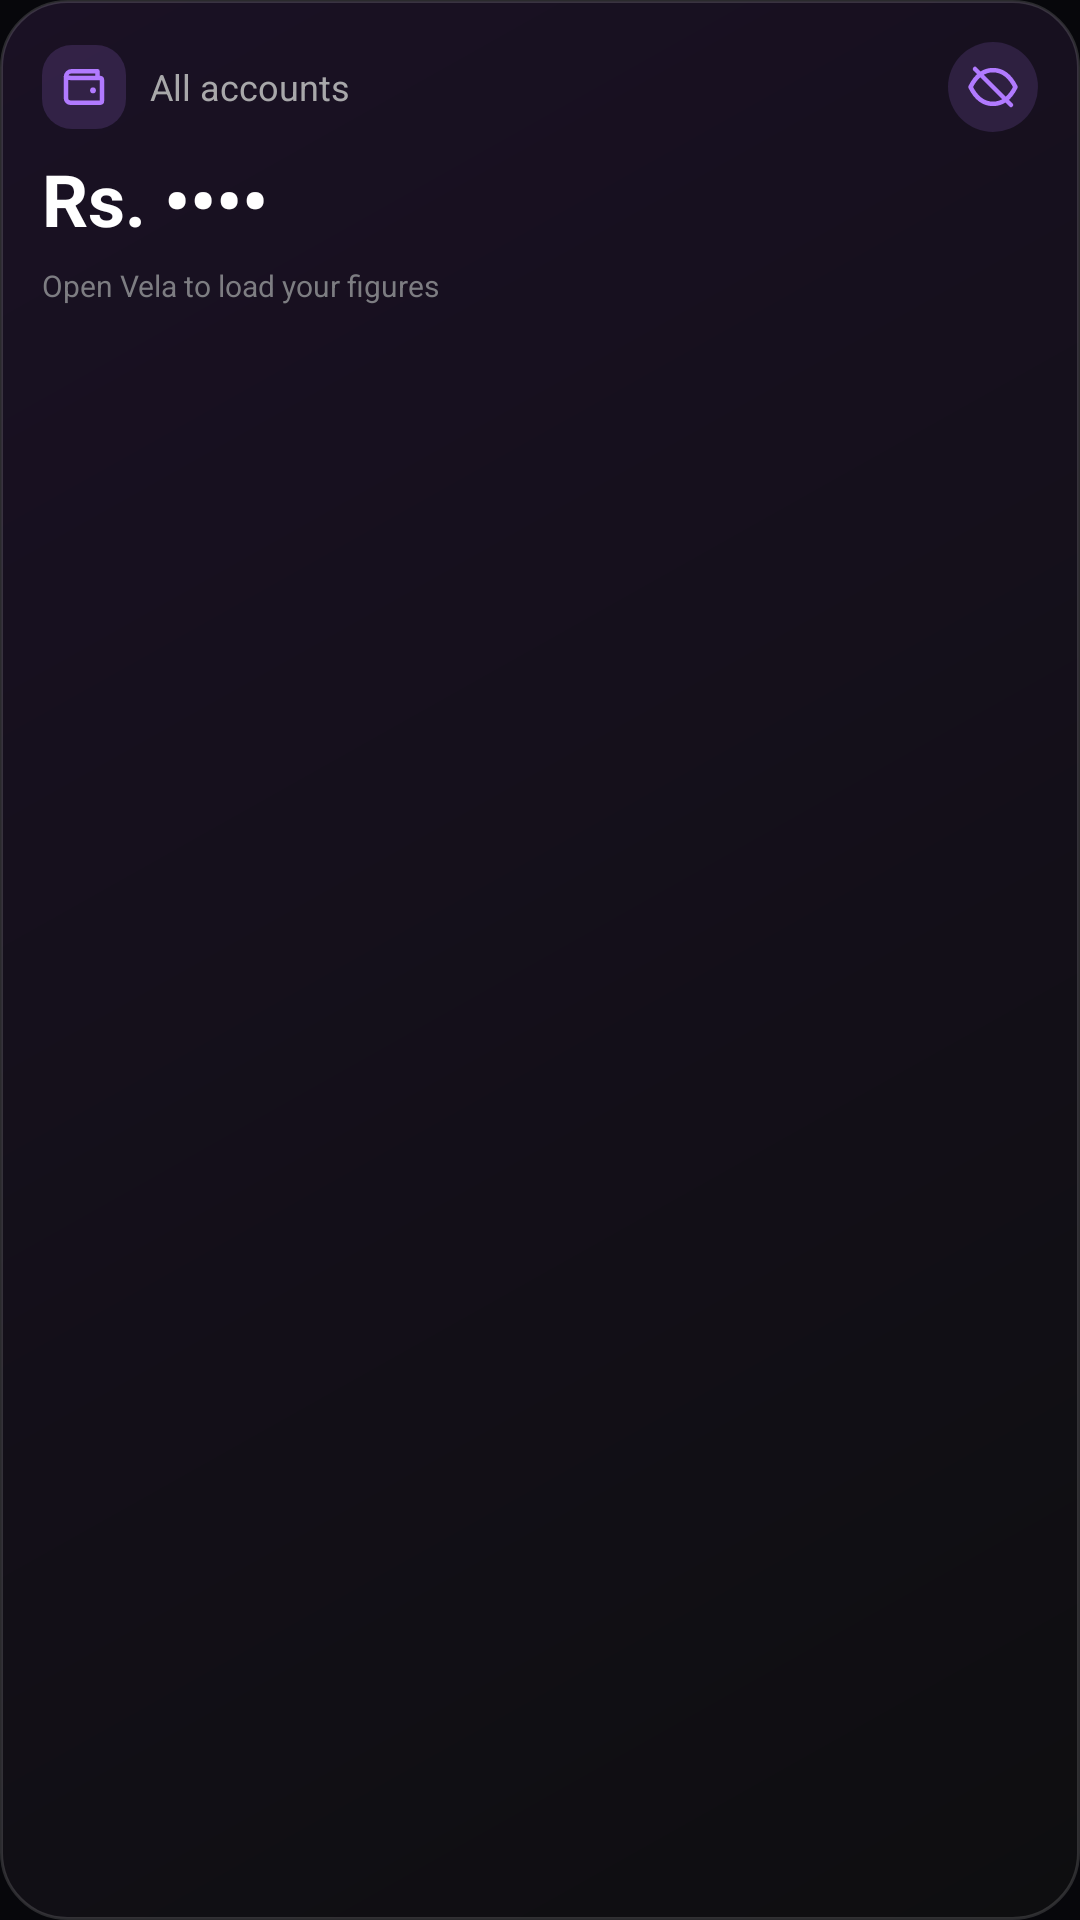

Where to tap for icons on this 1080 x 1920 app screen, as point (x, y):
balances: point (84, 87)
Show amounts: point (993, 87)
